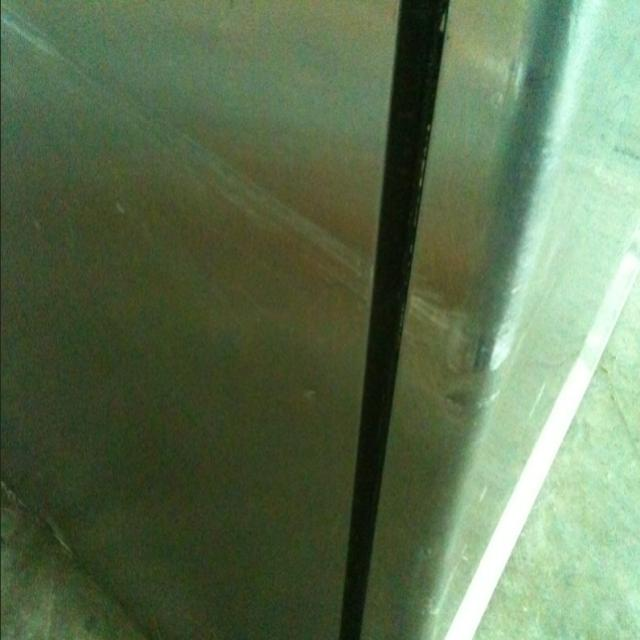dents: (515, 0, 571, 119)
